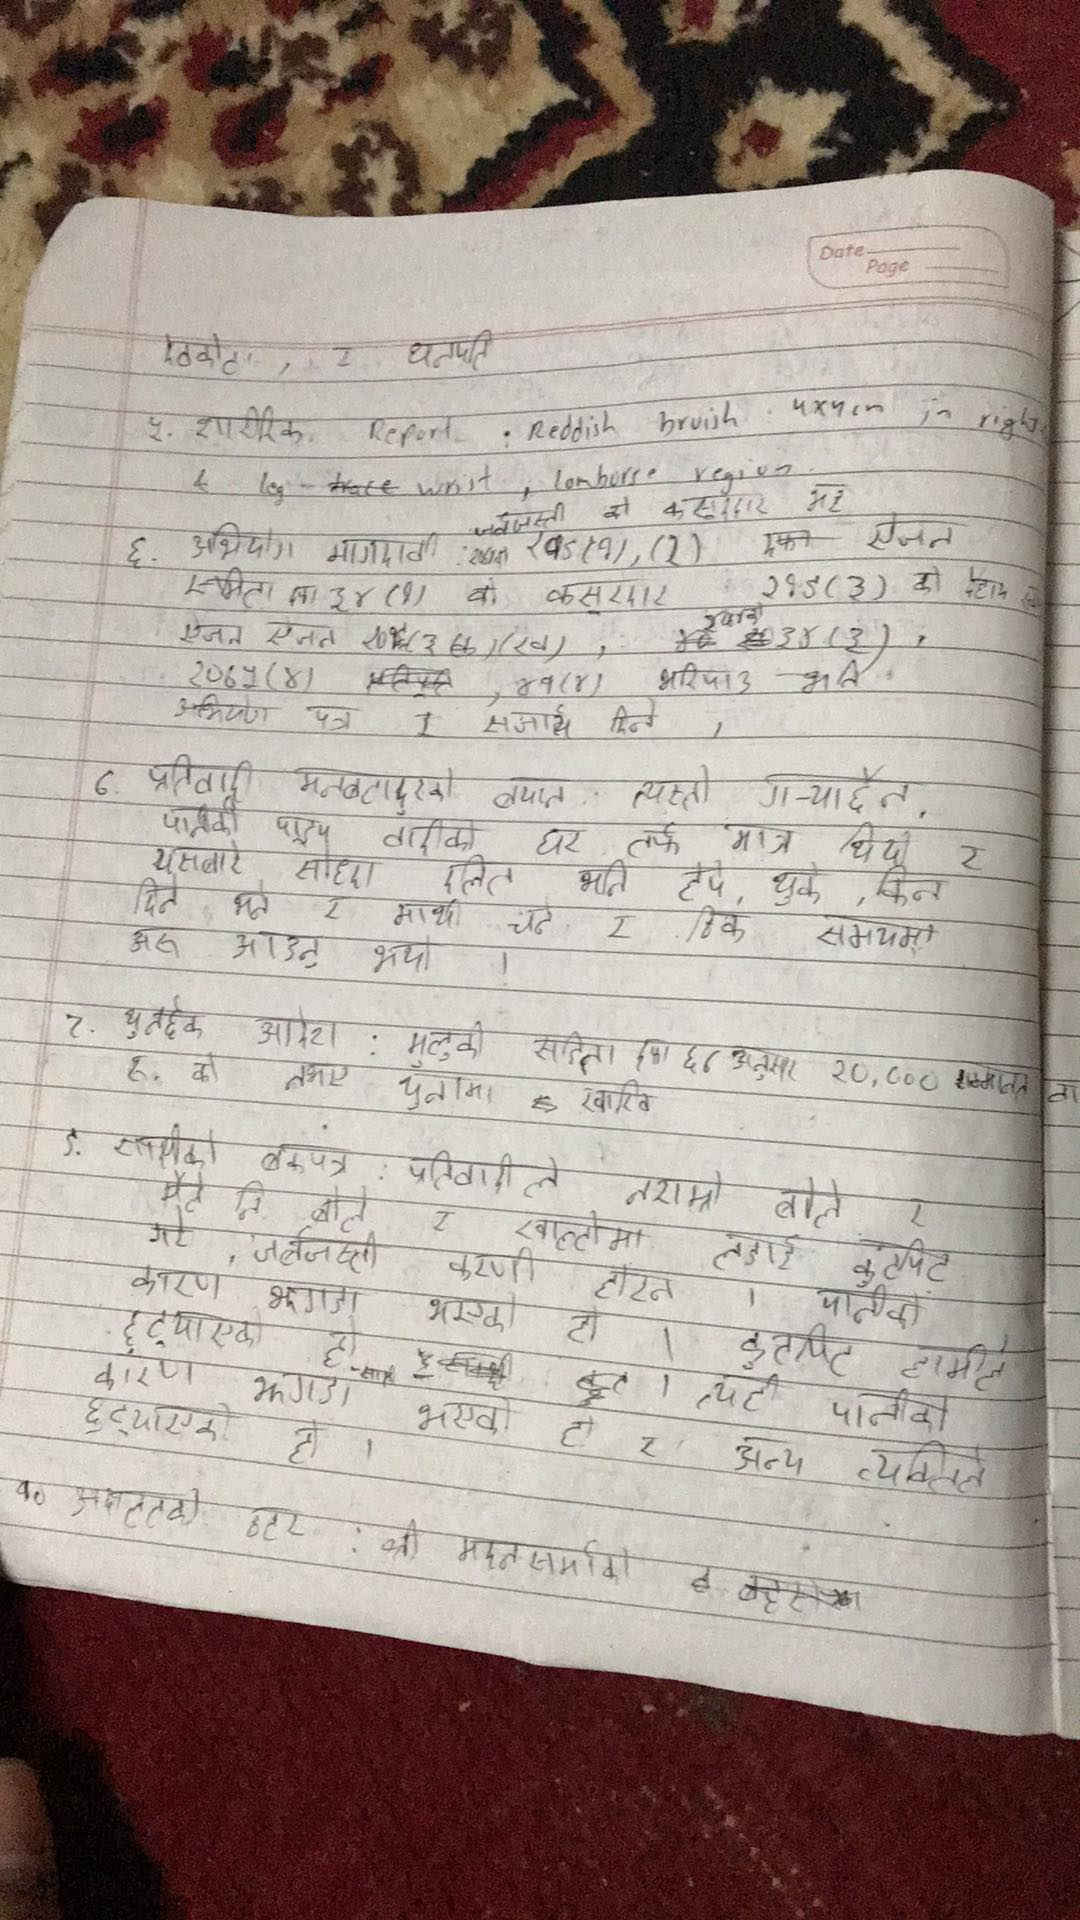text: (456, 1534, 633, 1592), (285, 757, 454, 815), (851, 1437, 994, 1501), (756, 762, 911, 818), (113, 1305, 272, 1360), (65, 1476, 211, 1534), (76, 1394, 236, 1447), (400, 1149, 567, 1197), (504, 1205, 653, 1258), (825, 1383, 960, 1440), (897, 1335, 1021, 1394), (848, 1232, 963, 1291), (736, 1323, 857, 1375), (407, 1389, 522, 1443), (247, 1232, 385, 1275), (390, 1062, 500, 1116), (190, 398, 307, 448), (107, 1122, 227, 1168), (624, 1164, 725, 1217), (814, 913, 944, 953), (545, 578, 676, 617), (314, 527, 440, 568), (138, 754, 257, 798), (425, 1288, 525, 1340), (247, 1367, 357, 1414), (822, 1055, 942, 1097), (811, 1284, 927, 1328), (708, 1225, 802, 1278), (222, 928, 328, 975), (187, 518, 299, 562), (724, 1433, 814, 1486), (405, 322, 496, 372), (373, 814, 484, 855), (145, 840, 251, 882), (400, 1017, 491, 1065), (123, 994, 207, 1046), (654, 488, 771, 525), (691, 1375, 785, 1422), (179, 563, 276, 608), (527, 1029, 624, 1073), (253, 1139, 359, 1180), (291, 845, 377, 895), (255, 1004, 340, 1054), (260, 1278, 368, 1317), (156, 332, 245, 380), (654, 655, 754, 698), (444, 1246, 545, 1288), (127, 1261, 229, 1302), (170, 691, 276, 731), (767, 1175, 845, 1228), (864, 512, 957, 555), (157, 796, 240, 845), (589, 1265, 682, 1308), (91, 1357, 193, 1396), (578, 1073, 655, 1125), (628, 766, 716, 811), (483, 767, 572, 811), (727, 1040, 804, 1091), (269, 1058, 363, 1098), (949, 1062, 1033, 1106), (872, 862, 945, 911), (682, 899, 754, 948), (837, 820, 911, 868), (440, 855, 524, 897), (473, 502, 571, 538), (309, 1182, 373, 1234), (124, 918, 187, 969), (367, 928, 436, 975), (480, 709, 578, 742), (272, 806, 342, 851), (262, 612, 340, 651), (388, 897, 471, 932), (240, 1503, 309, 1545), (624, 818, 687, 862), (125, 874, 185, 920), (725, 820, 794, 860), (771, 857, 822, 910), (150, 1166, 211, 1209), (135, 1207, 193, 1251), (578, 858, 637, 902), (504, 897, 559, 942), (284, 1418, 334, 1466), (376, 1515, 427, 1563), (316, 1323, 365, 1371), (177, 617, 245, 651), (530, 823, 589, 862), (628, 1029, 679, 1073), (673, 862, 731, 902), (607, 702, 657, 742), (556, 1308, 605, 1349), (800, 475, 847, 517), (227, 885, 274, 926), (556, 1408, 596, 1455), (231, 1178, 268, 1225), (305, 703, 356, 735), (120, 1052, 157, 1095), (113, 535, 150, 575), (512, 669, 560, 698), (510, 628, 554, 659), (593, 492, 637, 522), (448, 629, 485, 665), (953, 837, 986, 876), (604, 909, 636, 948), (189, 1051, 220, 1091), (313, 895, 349, 928), (138, 411, 167, 448), (425, 1203, 456, 1236), (633, 1432, 659, 1472), (328, 340, 356, 371)
